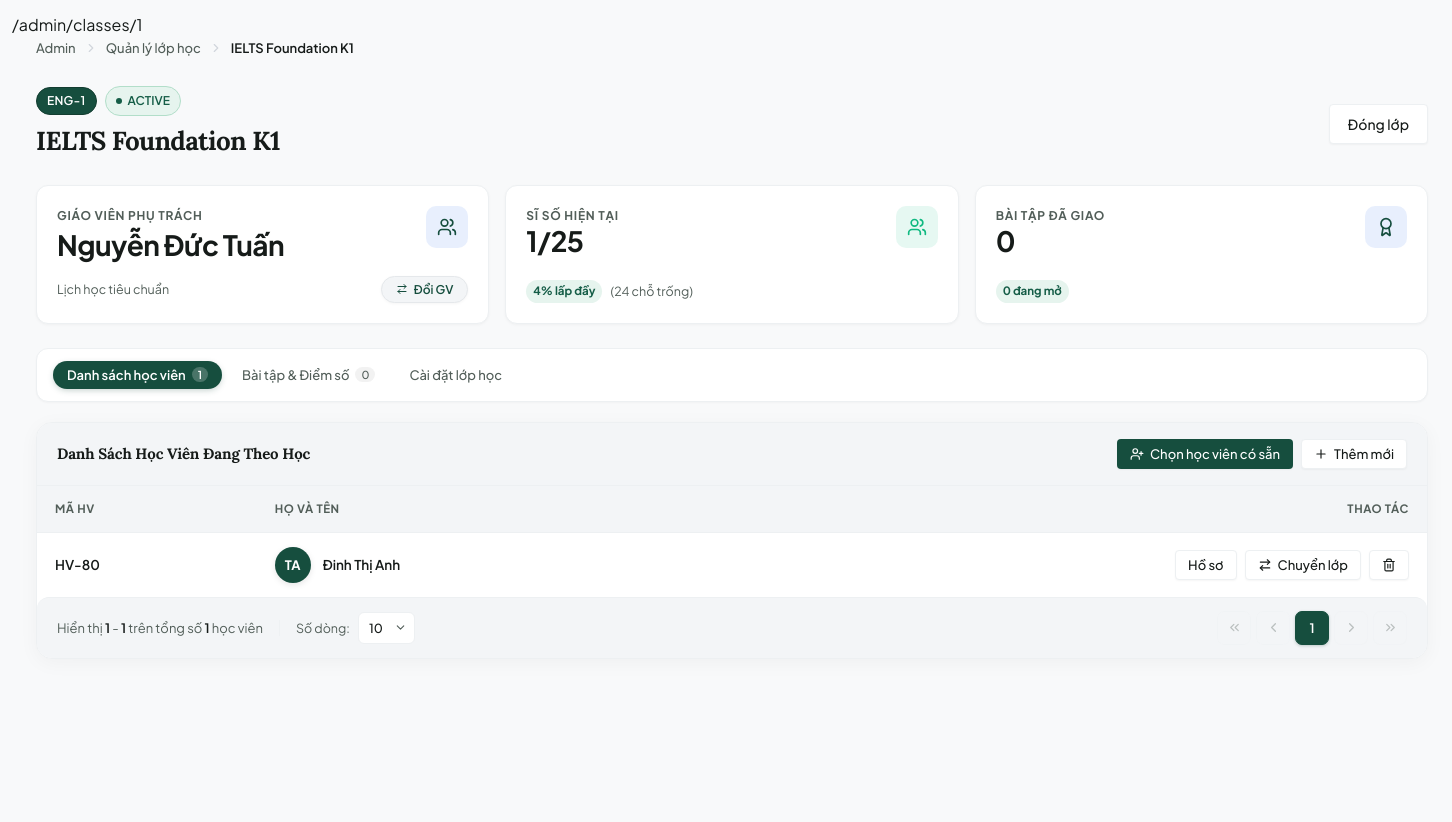
Test: shows genuine empty assignments without a permission error
Expected: the heading "IELTS Foundation K1" is shown, [36,120,280,161]
Click the button "Bài tập & Điểm số 0": (309, 374) [228,360,389,388]
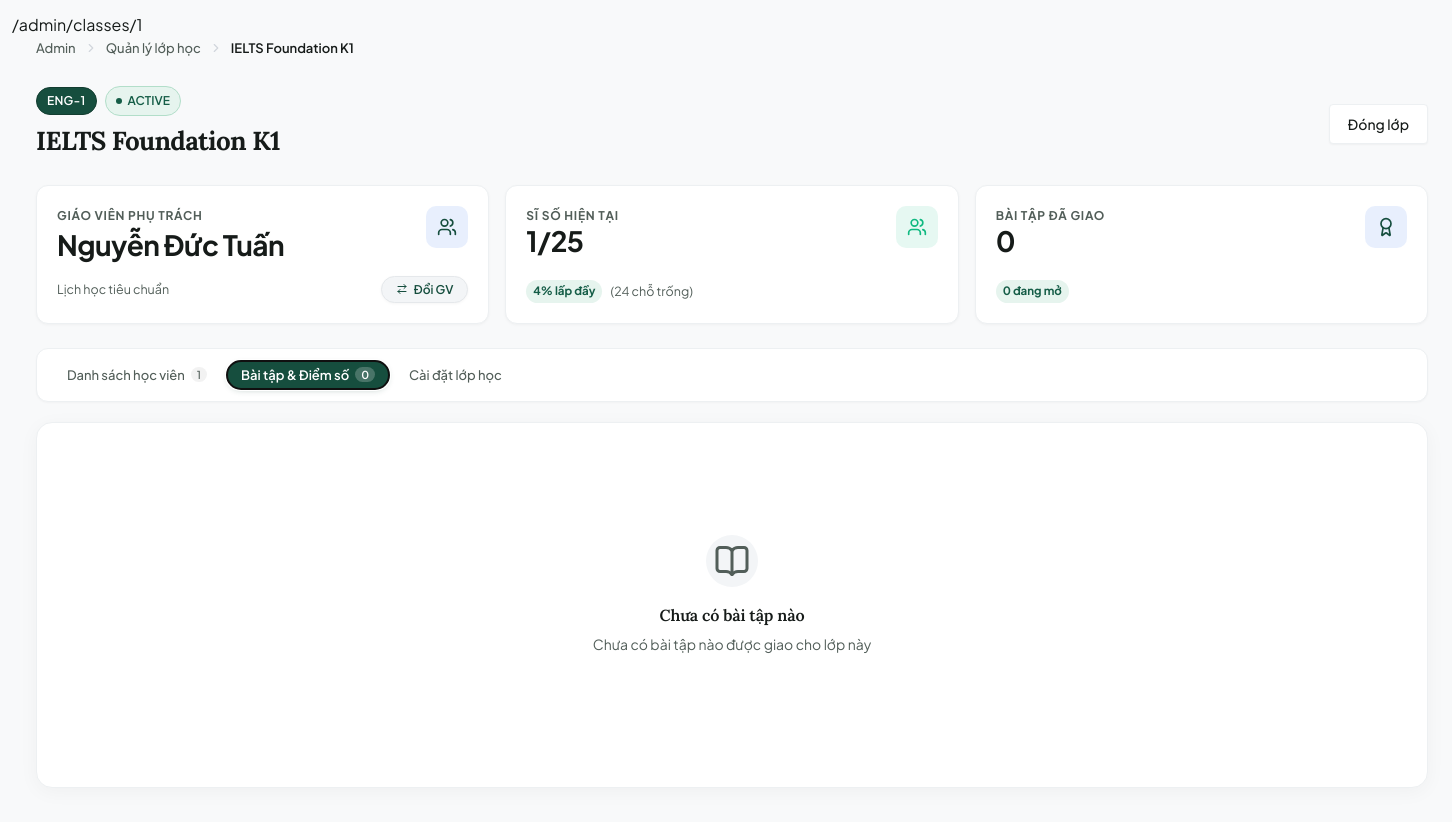
Now the heading "Chưa có bài tập nào" is shown, box [660,602,804,628]
